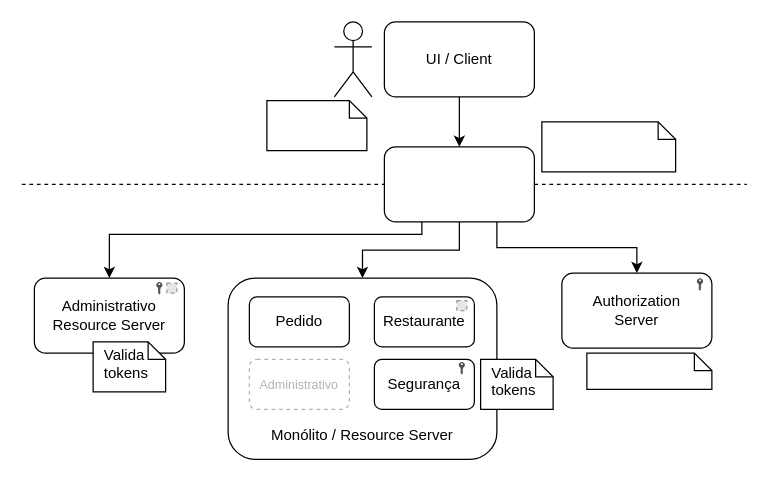
Image size: 770x481. Some labels were removed from this diagram. Grey dashed boxes stand in for pictures. Each missing label, with the centre of its shape:
API Gateway: the point at 458,184
Gera tokens: the point at 649,370
Proxy API Composer: the point at 608,146
Resource Owner: the point at 316,125
